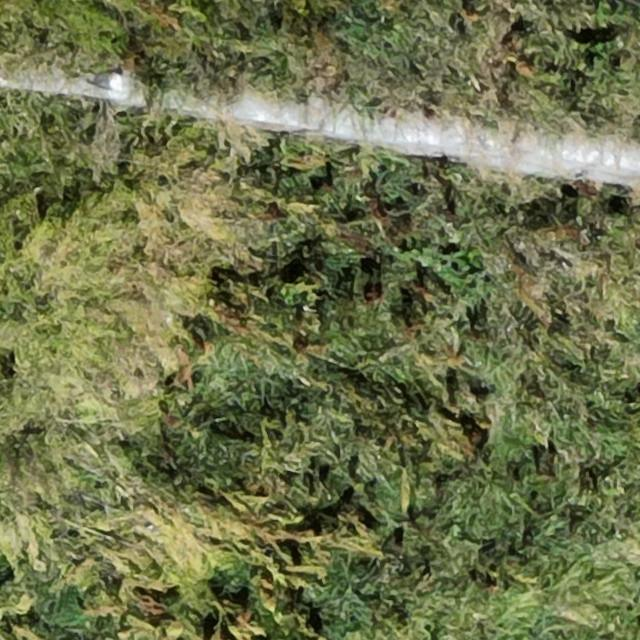umineko: (88, 69, 125, 91)
